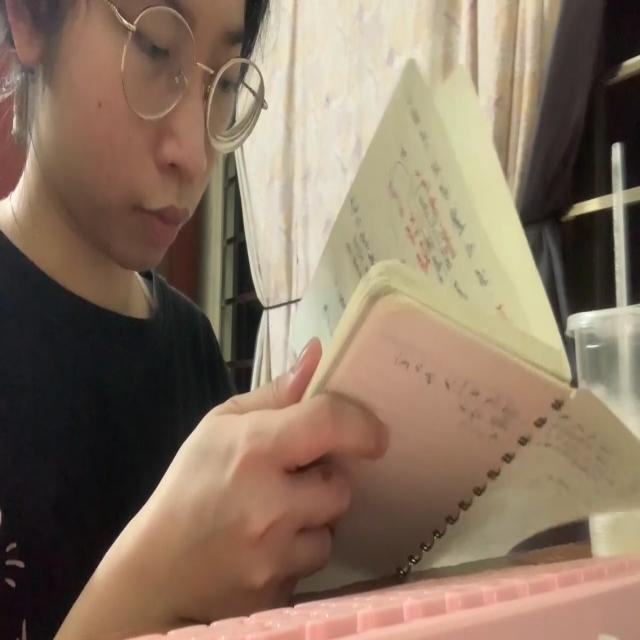book: (284, 49, 640, 598)
student: (2, 0, 388, 640)
